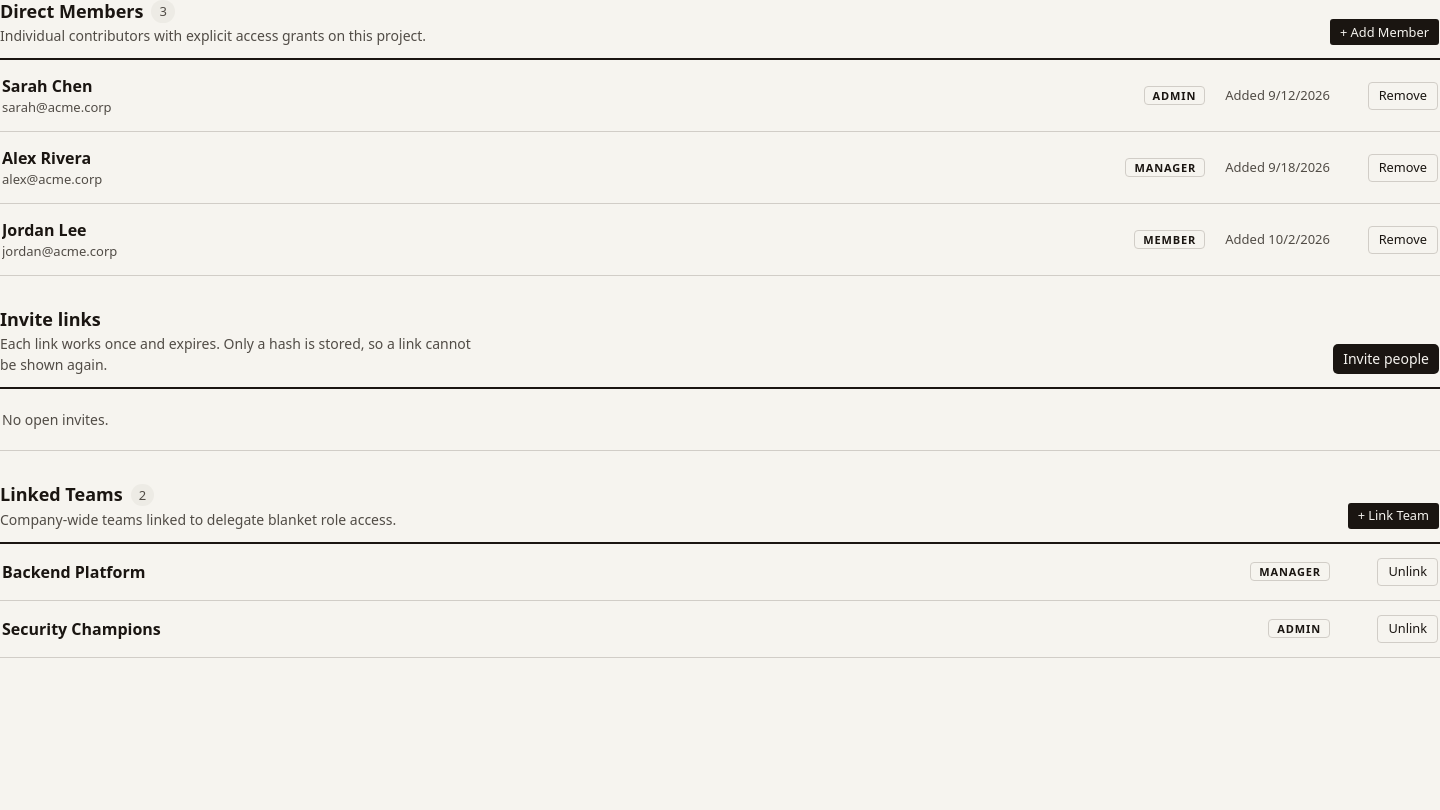
Test: ProjectAccess › closes the add-member dialog with Escape and returns focus to the button that opened it
The image size is (1440, 810).
Click the button "+ Add Member" at (1384, 32), box [1329,18,1439,46]
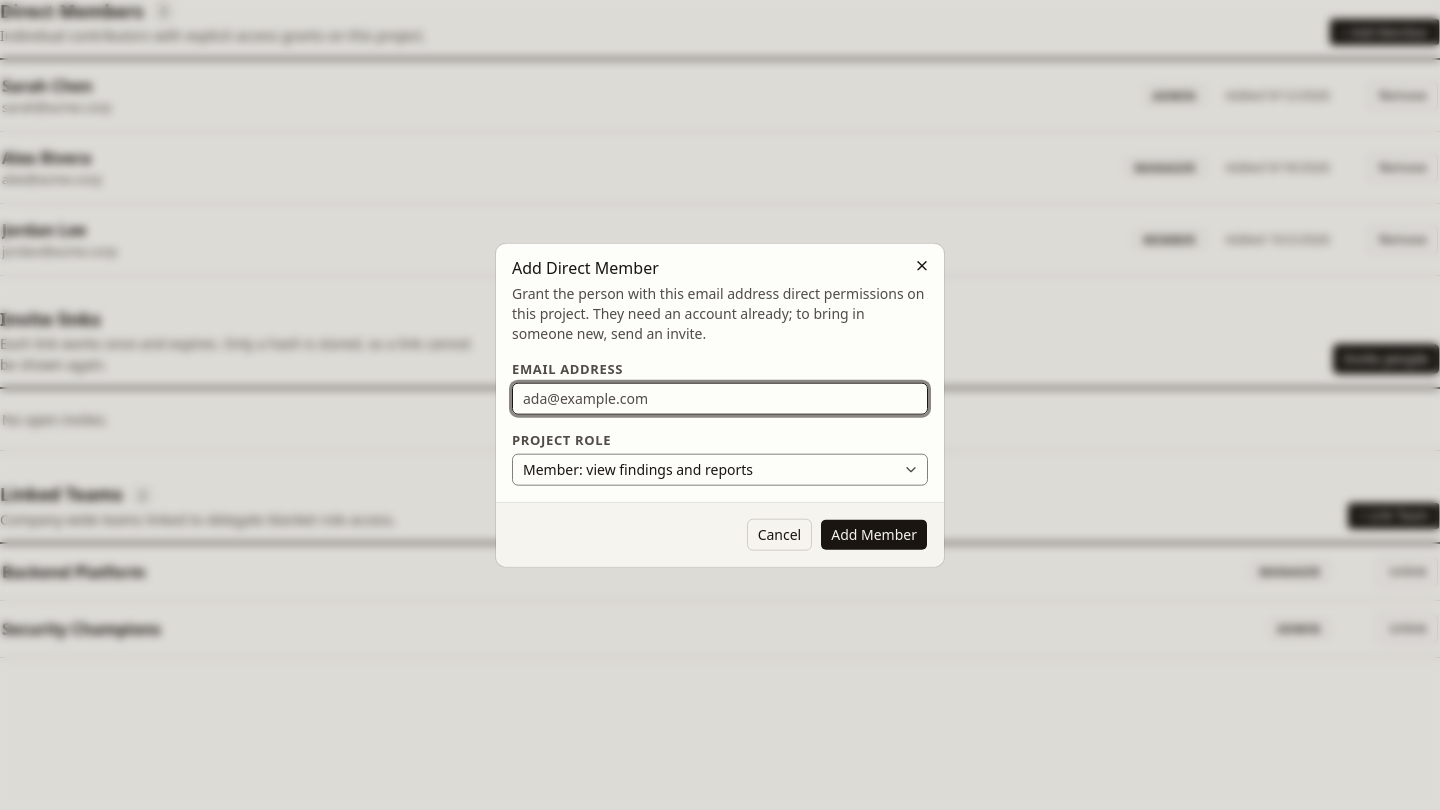
Press Escape
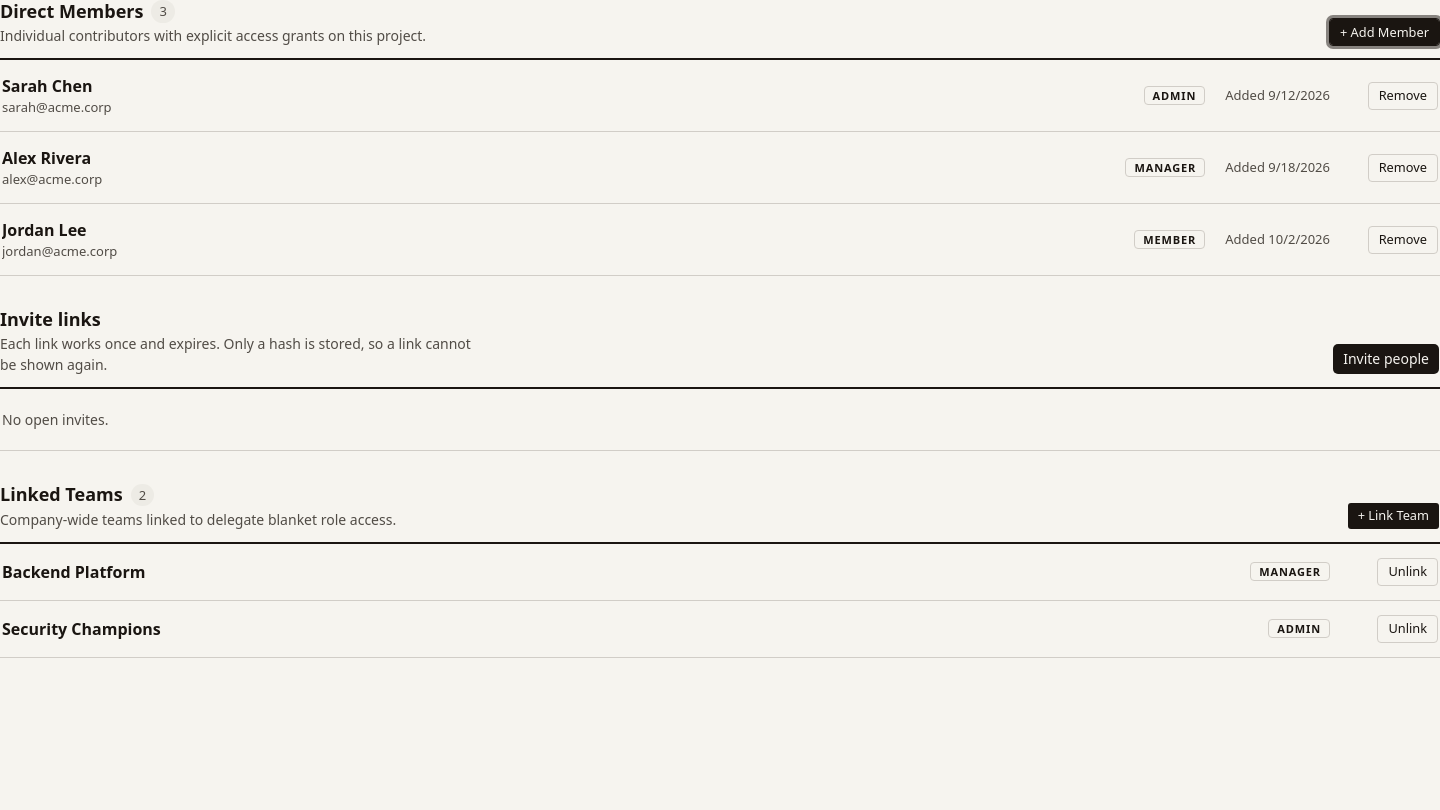
Expected: the heading "Add Direct Member" is gone
